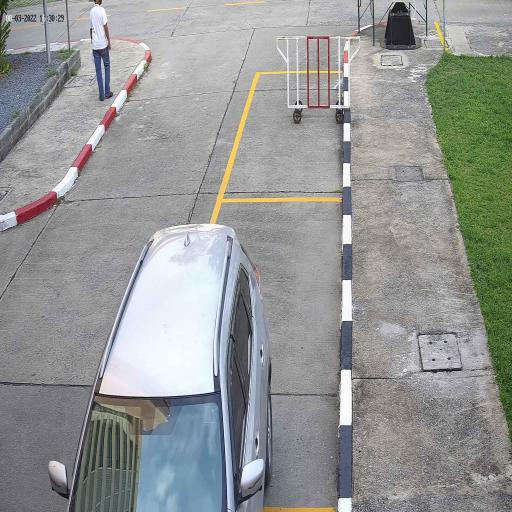car: (66, 221, 274, 512)
